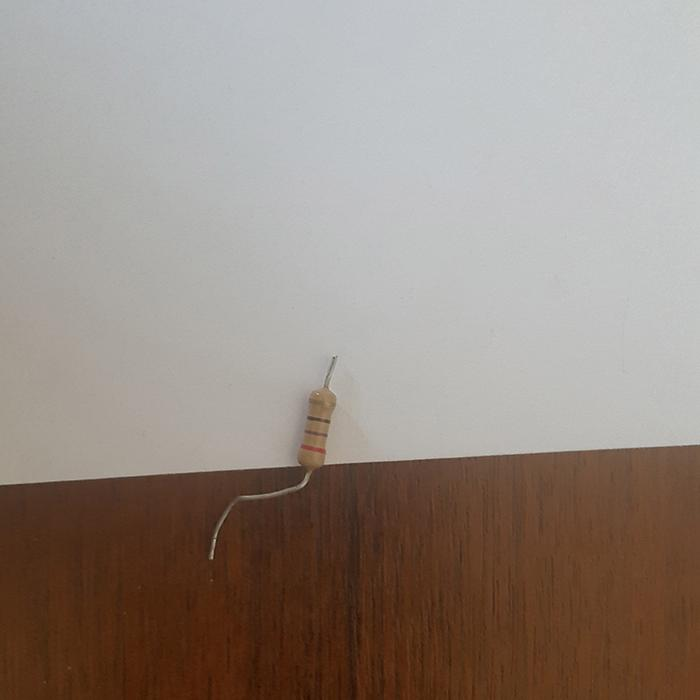resistor: (298, 383, 335, 469)
